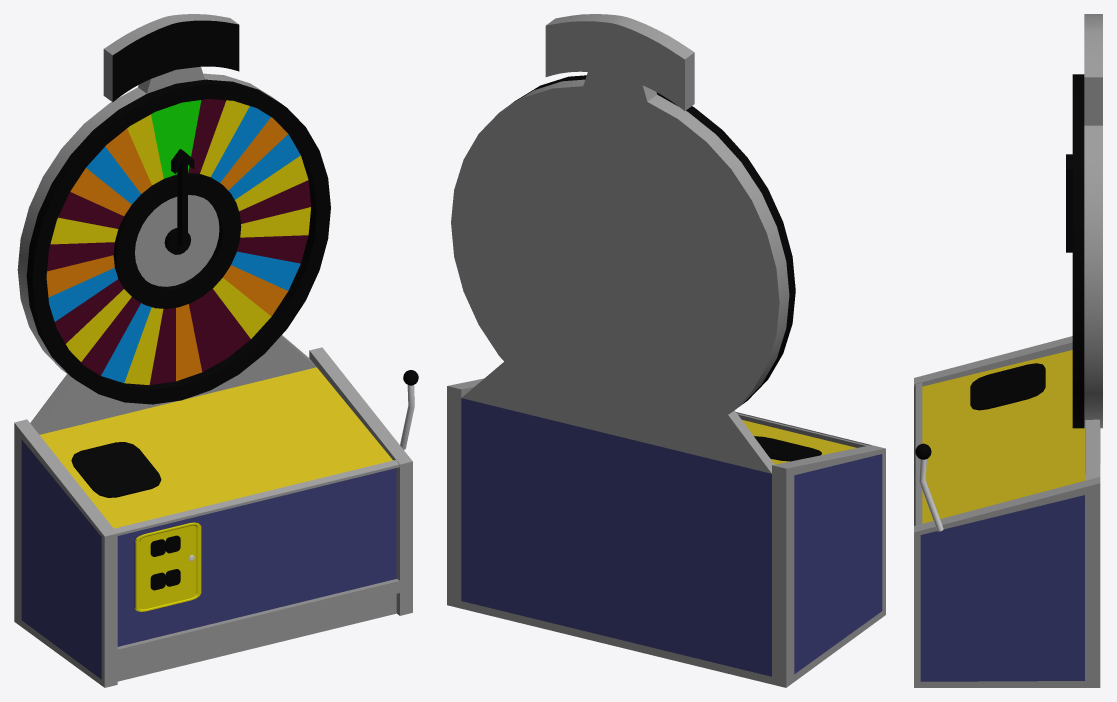
File: spinNwin.fbx
3 renders of one model, left to right at view 1: azimuth 30°, elevation 25°; view 2: azimuth 150°, elevation 25°; view 3: azimuth 270°, elevation 25°, orthographic. The views are drawn at different scales.
Parts seen in each view (by area): view 1: body, top, Plane, Cube; view 2: top, body, Plane; view 3: body, top, Plane, Cube, Cylinder.
Boxes of the visible parts, x1,y1,x2,y2 form: body: [14, 335, 412, 687]; top: [17, 14, 330, 404]; Plane: [71, 442, 161, 497]; Cube: [171, 149, 194, 247]; top: [451, 14, 795, 438]; body: [447, 362, 885, 687]; Plane: [754, 436, 821, 461]; body: [914, 336, 1100, 687]; top: [1072, 14, 1102, 428]; Plane: [970, 363, 1045, 410]; Cube: [1066, 154, 1072, 252]; Cylinder: [919, 459, 943, 531].
Size of the model in its own units: 447 by 762 by 224.
